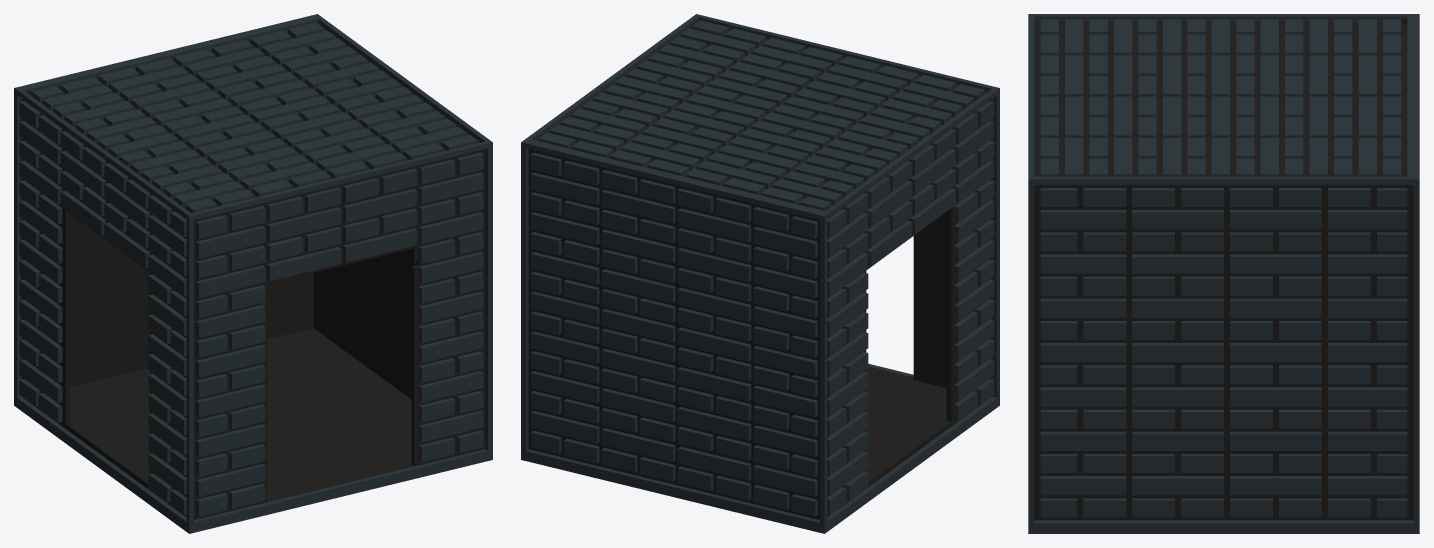
The model's file is tower_middle_corner.obj.
The picture shows the model from 3 angles, left to right: view 1: azimuth 30°, elevation 25°; view 2: azimuth 150°, elevation 25°; view 3: azimuth 270°, elevation 25°; orthographic projection. The views are drawn at different scales.
Bounding box in the file's own units: 6.4 × 6.4 × 6.4.
Materials: 1 (1 with a texture image).
